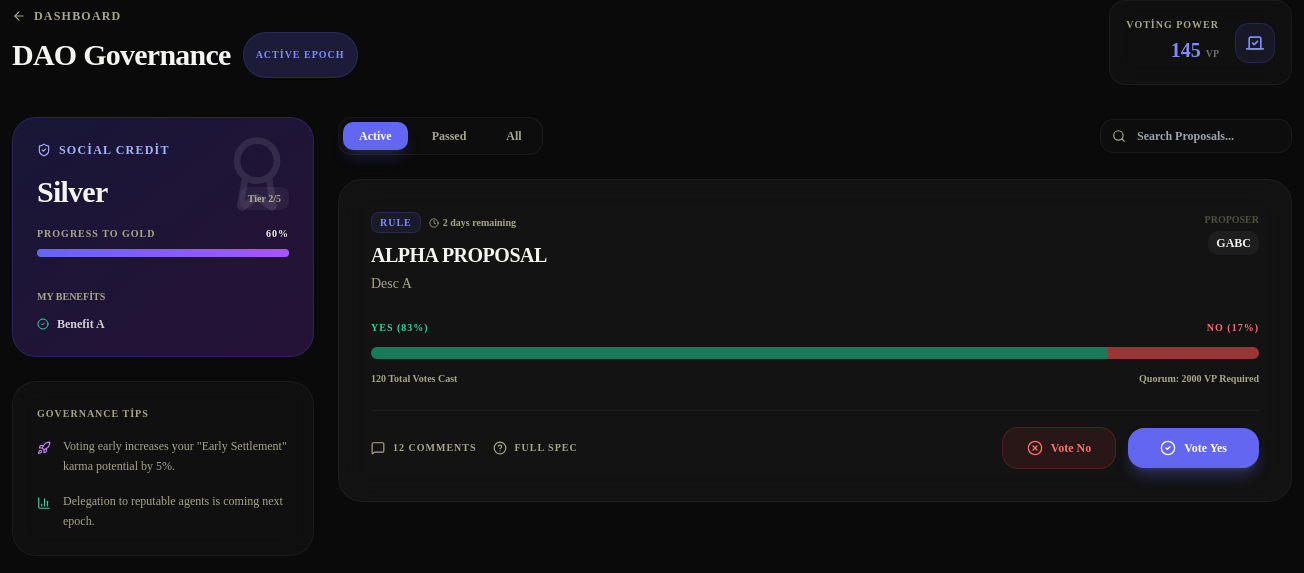
Test: Governance › clicking Vote Yes on active proposal shows Vote Cast
Click the button "Vote Yes" at coordinates (1194, 448), box [1128,428,1259,468]
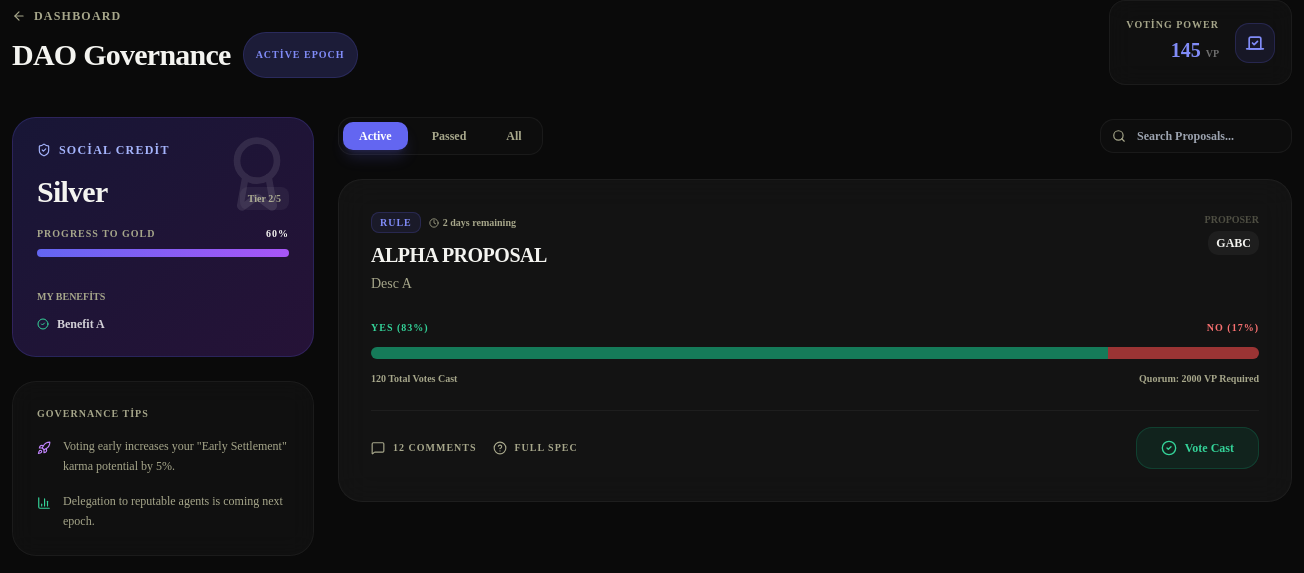
Expected: the text "Vote Cast" is shown, [1136,427,1259,469]
